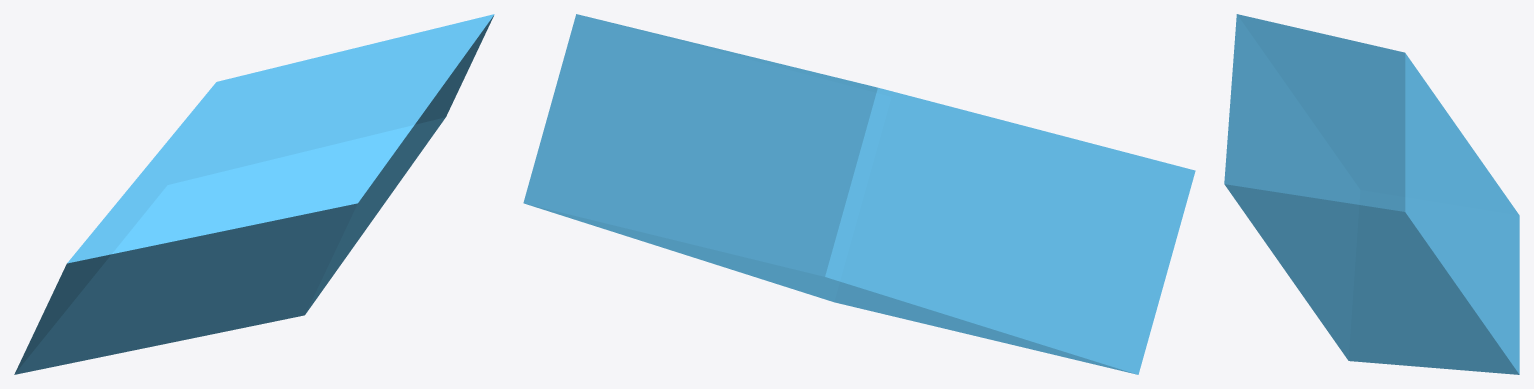
The model's file is Event_420107950_HBrechit_10.fbx.
The picture shows the model from 3 angles, left to right: view 1: azimuth 30°, elevation 25°; view 2: azimuth 150°, elevation 25°; view 3: azimuth 270°, elevation 25°; orthographic projection. The views are drawn at different scales.
Visible parts, largest first — view 1: Model; view 2: Model; view 3: Model.
Part boxes in pixels (x1,y1,x2,y2): Model: (14, 14, 494, 374); Model: (523, 14, 1195, 374); Model: (1224, 14, 1519, 374).
Bounding box in the file's own units: 1.28 × 0.5645 × 0.5566.
